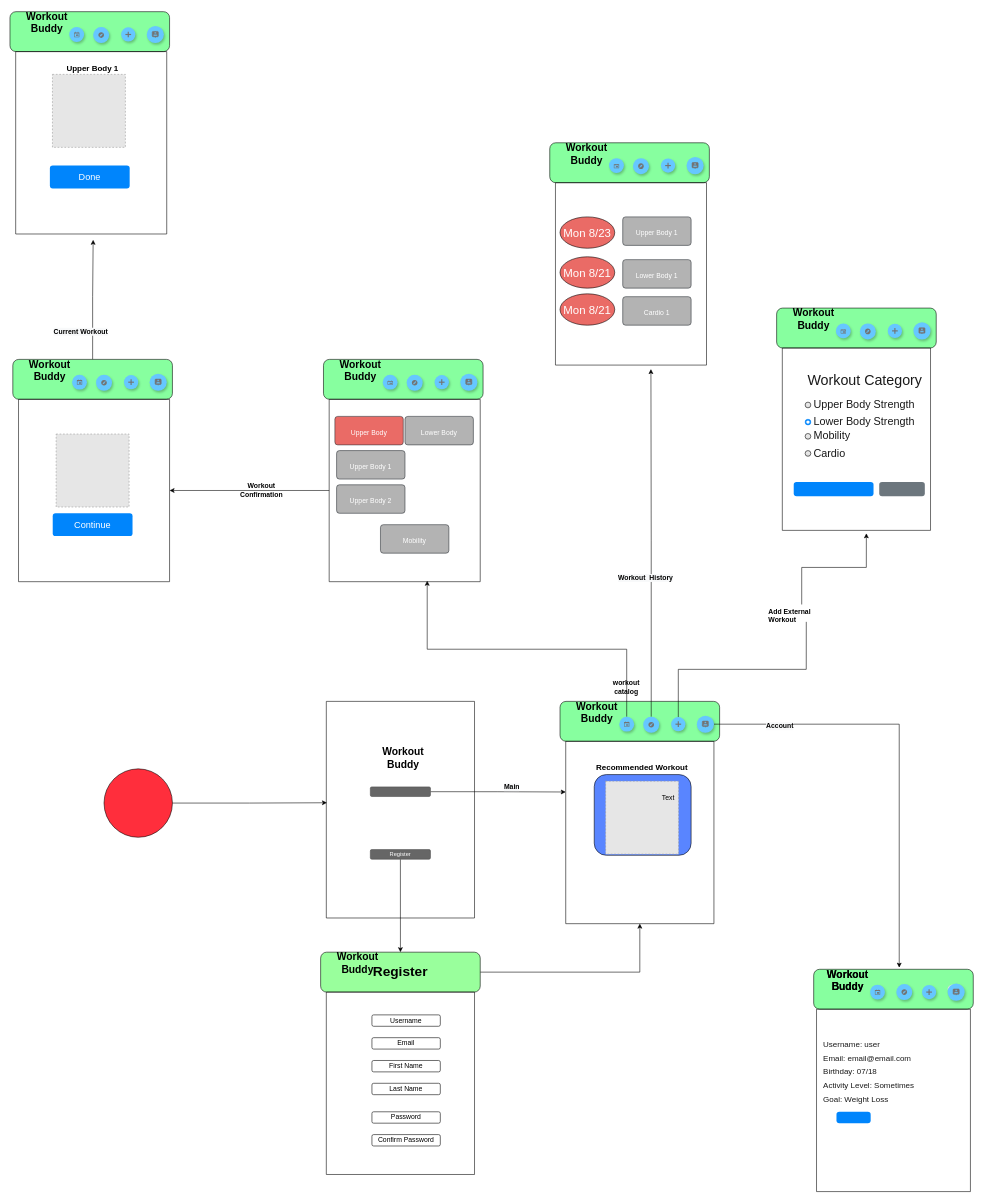
Some shapes in this 983 by 1202 pixel diagram are drawn without their labels. Grey dashed boxes stand in for pictures. The centre of each missing label's shape, as x and y in pixels:
"Add Workout" belongs at (833,489).
"Cancel" belongs at (902,489).
"Edit" belongs at (853,1117).
"Login" belongs at (400,791).
"START HERE" belongs at (137,802).
